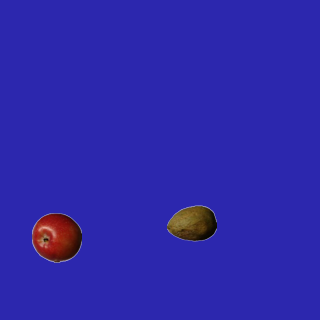Apple Braeburn: (31, 212, 81, 262)
Papaya: (166, 198, 216, 248)
